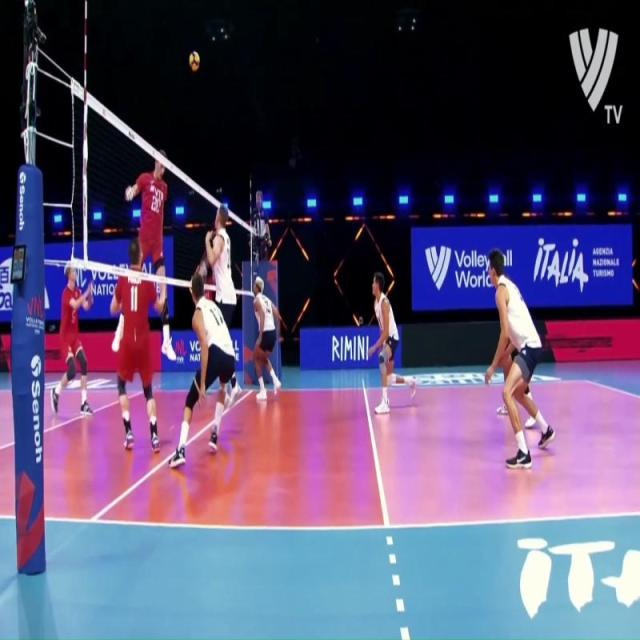volleyball: (188, 51, 201, 72)
